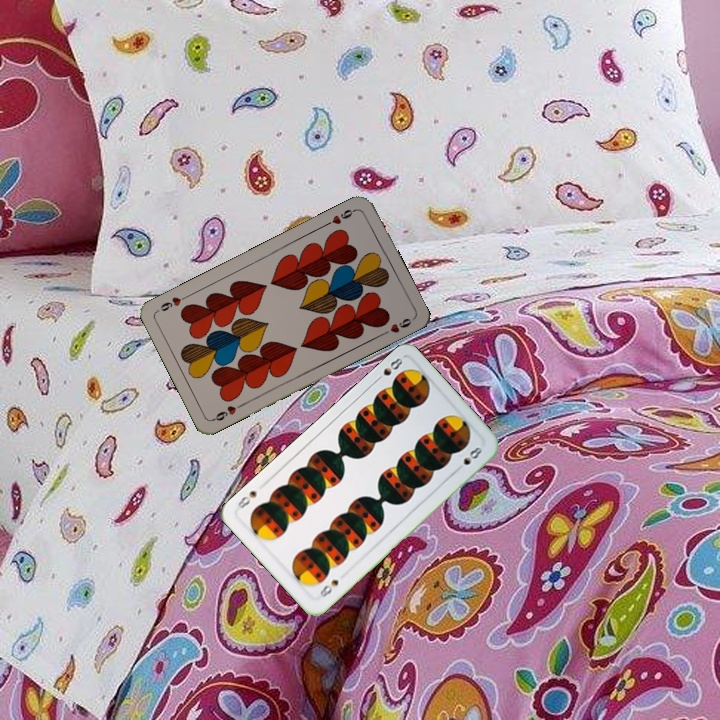H9: (209, 399, 247, 424), (321, 205, 360, 229)
S8: (371, 354, 405, 385), (316, 575, 341, 600)
